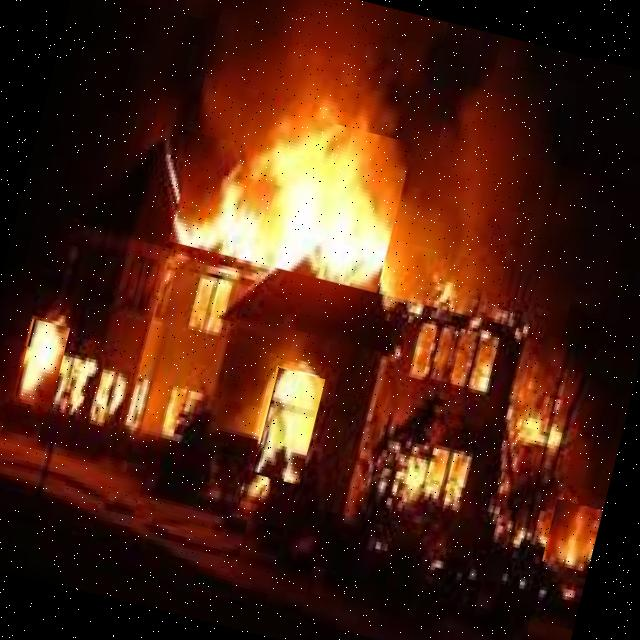fire: (170, 96, 414, 296), (252, 368, 325, 484), (14, 319, 70, 409), (542, 500, 602, 572)
